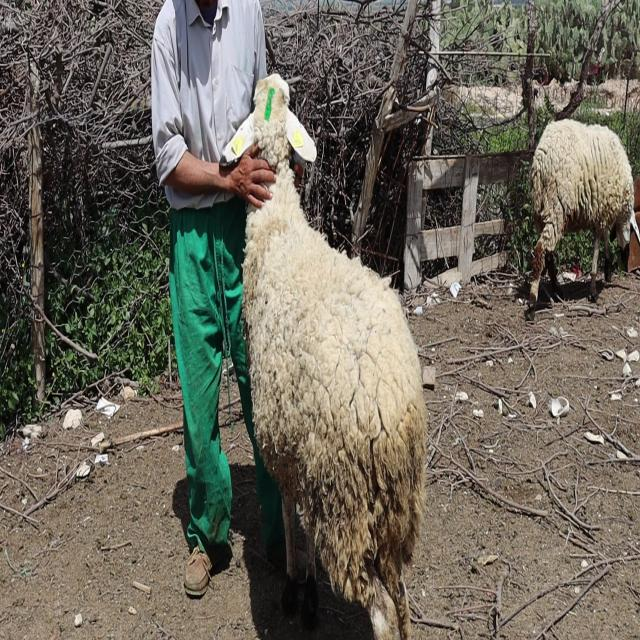Score_5: (221, 74, 427, 639)
